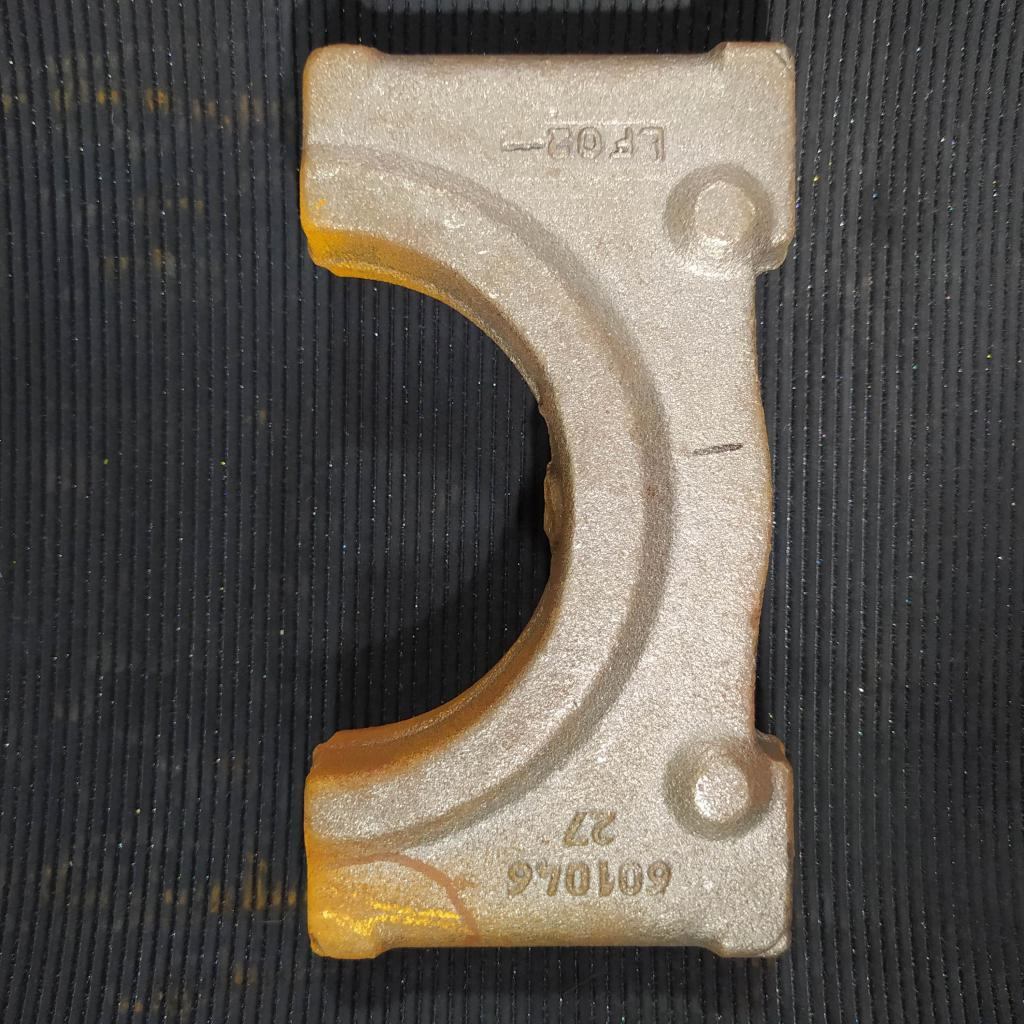rechupe: (761, 931, 794, 960), (774, 45, 794, 72), (308, 932, 324, 957)
